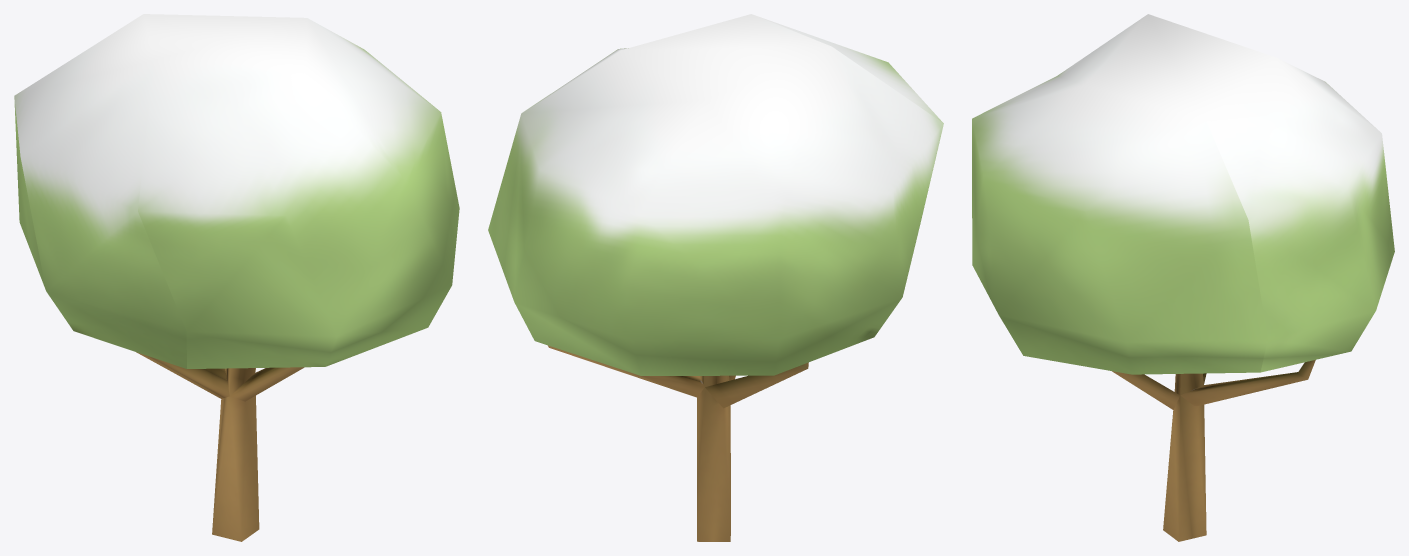
The picture shows the model from 3 angles, left to right: view 1: azimuth 30°, elevation 25°; view 2: azimuth 150°, elevation 25°; view 3: azimuth 270°, elevation 25°; orthographic projection. The views are drawn at different scales.
Parts seen in each view (by area): view 1: wLODBig tree; view 2: wLODBig tree; view 3: wLODBig tree.
Part boxes in pixels (left/top/right/bottom): wLODBig tree: left=14, top=14, right=459, bottom=541; wLODBig tree: left=488, top=14, right=943, bottom=541; wLODBig tree: left=972, top=14, right=1394, bottom=541.
Bounding box in the file's own units: 15.77 × 19.66 × 15.92.
1 material, 1 textured.
